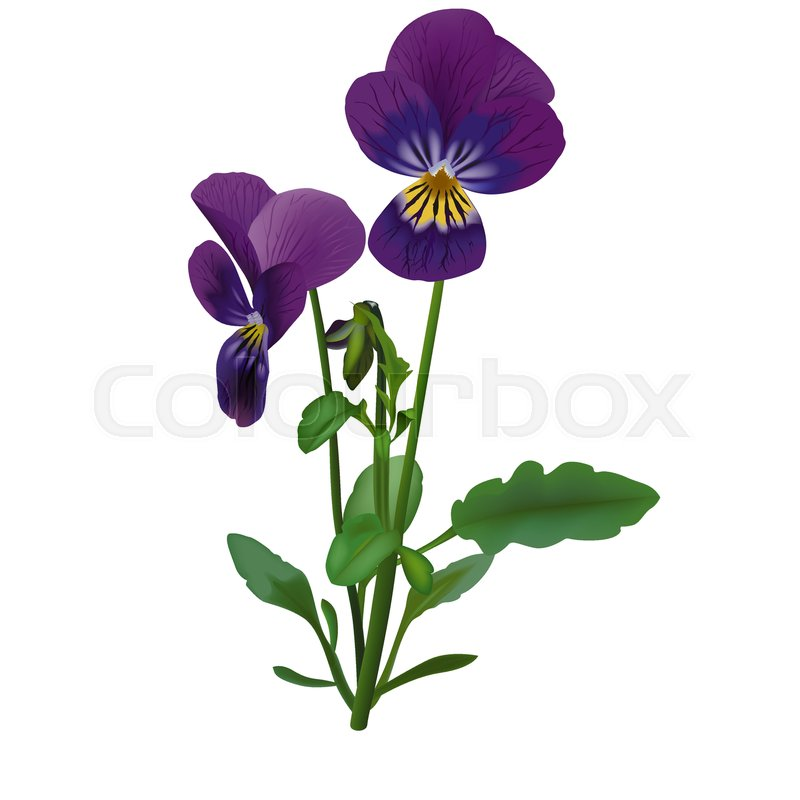violet: (336, 4, 559, 285), (185, 170, 356, 414)
